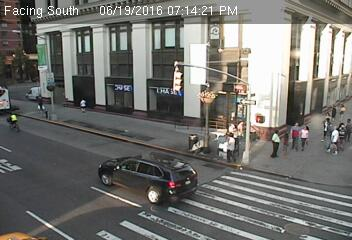neg: (203, 166, 226, 197), (153, 146, 175, 176), (165, 194, 184, 220), (242, 31, 260, 55), (295, 36, 313, 60), (259, 9, 277, 33), (266, 181, 284, 205), (317, 34, 335, 58), (8, 164, 26, 188), (131, 186, 149, 210), (302, 199, 320, 223), (251, 68, 268, 91), (4, 110, 21, 132), (41, 27, 57, 49), (15, 202, 31, 222), (50, 137, 65, 157), (95, 209, 110, 229), (301, 168, 316, 188), (237, 207, 252, 227), (111, 142, 125, 161), (73, 127, 87, 146), (125, 17, 138, 35), (100, 171, 113, 189), (164, 71, 177, 88), (126, 77, 138, 93), (55, 192, 67, 208), (91, 9, 103, 24), (168, 10, 179, 26), (153, 34, 164, 48), (115, 105, 125, 119), (89, 46, 99, 59), (286, 76, 295, 88), (145, 117, 153, 127), (193, 46, 197, 51)
pos: (220, 132, 242, 161), (284, 120, 304, 147), (267, 129, 286, 154), (297, 123, 316, 148), (324, 125, 342, 150), (74, 94, 89, 114), (337, 100, 351, 120), (324, 101, 338, 120), (33, 94, 46, 112)
